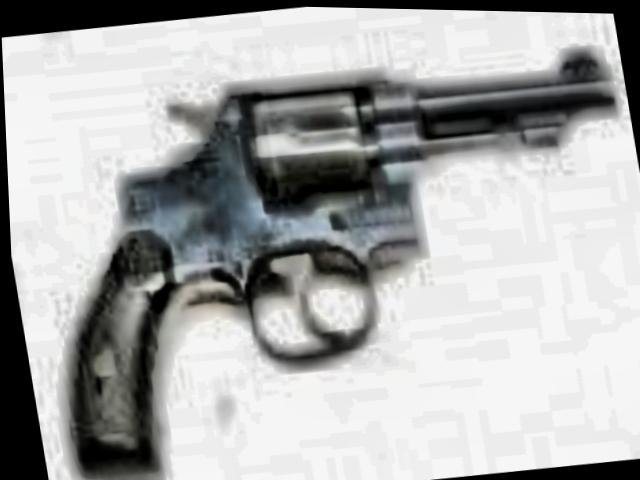pistol: (4, 16, 640, 480)
